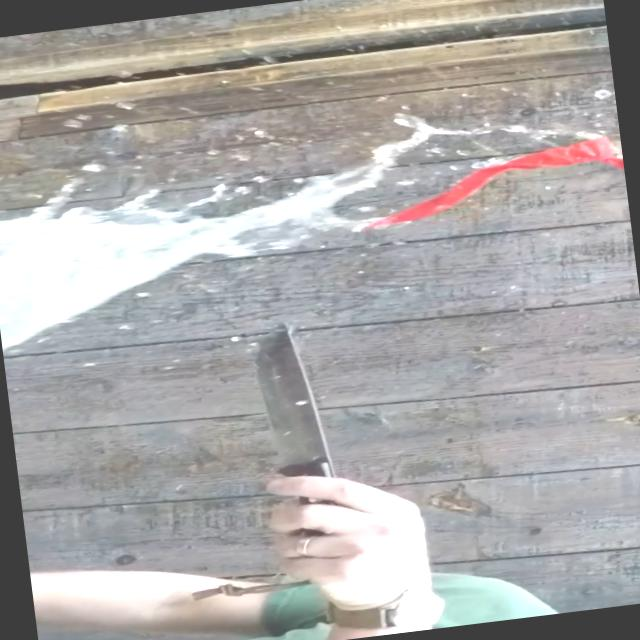knife: (234, 295, 431, 560)
